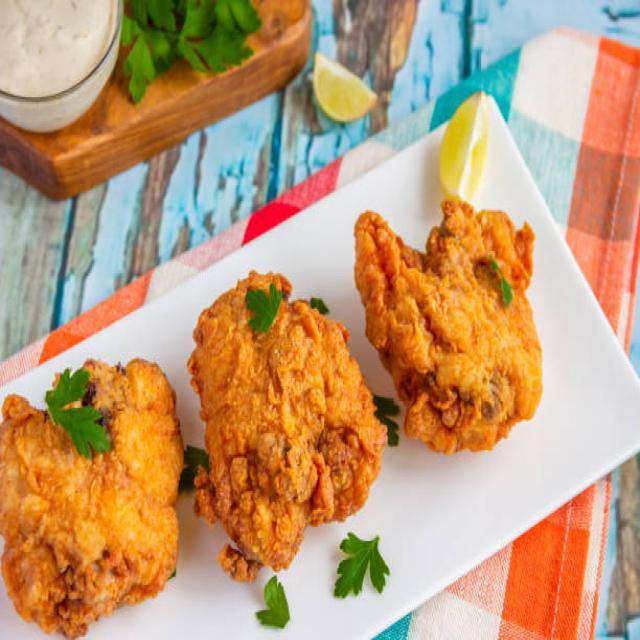Frango: (0, 210, 544, 640)
